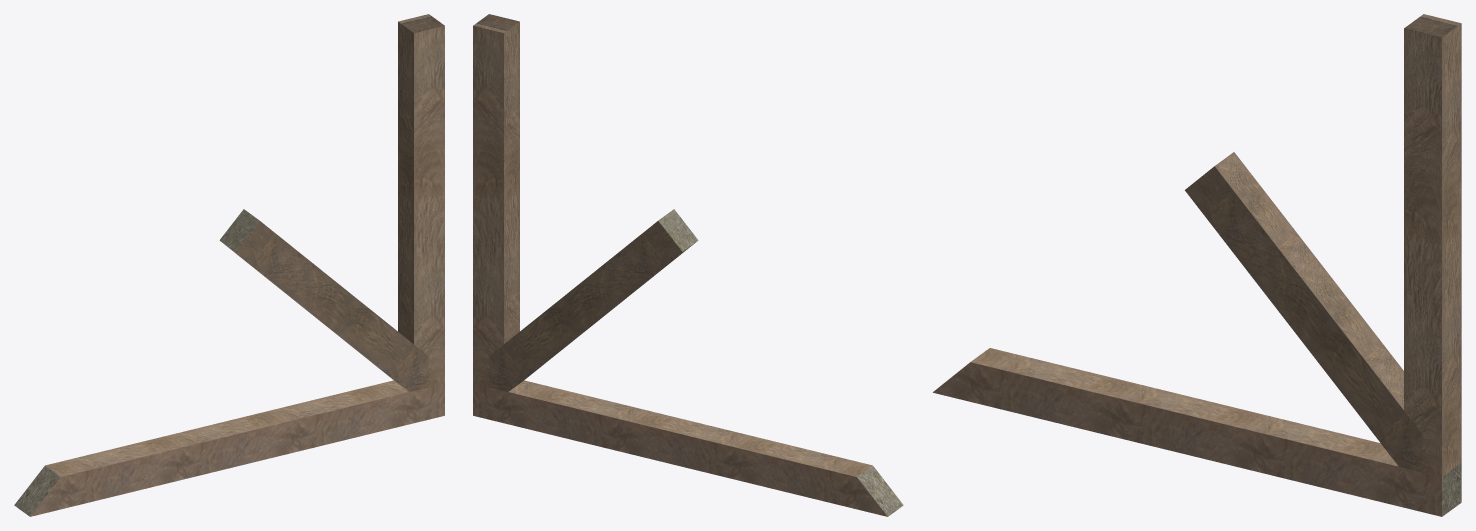
The model's file is RafterSupportB.fbx.
The picture shows the model from 3 angles, left to right: view 1: azimuth 30°, elevation 25°; view 2: azimuth 150°, elevation 25°; view 3: azimuth 330°, elevation 25°; orthographic projection. The views are drawn at different scales.
Visible parts, largest first — view 1: RafterSupportB; view 2: RafterSupportB; view 3: RafterSupportB.
Part boxes in pixels (x1,y1,x2,y2): RafterSupportB: [14, 14, 444, 516]; RafterSupportB: [473, 14, 903, 516]; RafterSupportB: [933, 14, 1461, 516].
Size of the model in its own units: 404 by 363 by 26.88.
